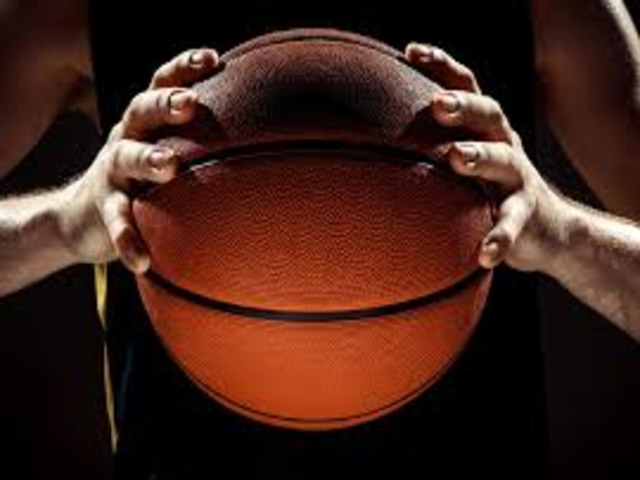Bola: (125, 25, 511, 437)
